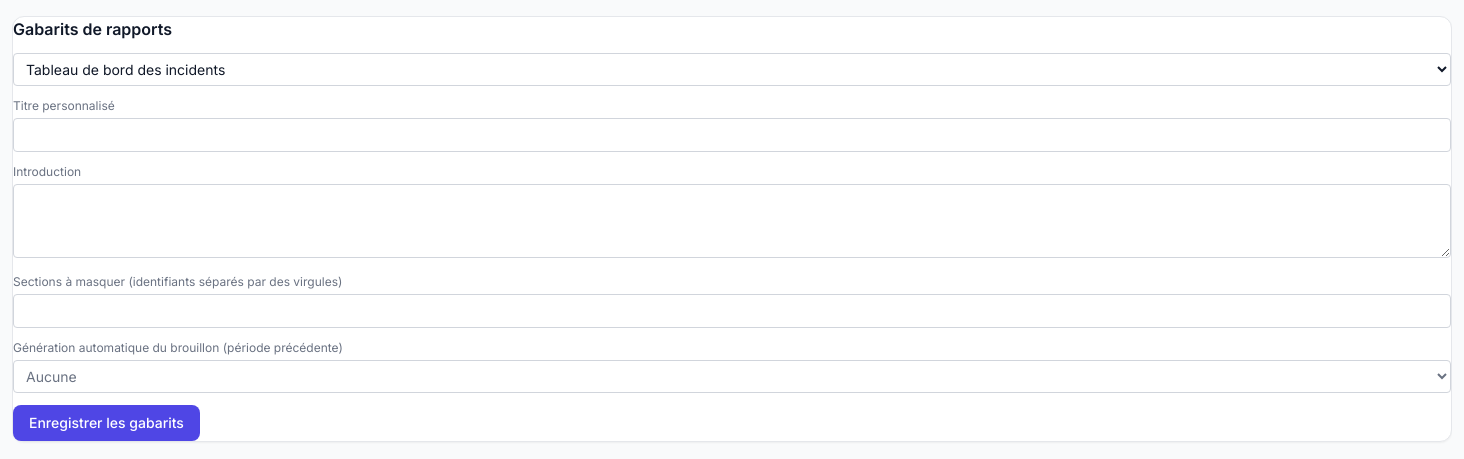
Test case: RapportsGabaritsEditor › ADMIN : saisit titre, introduction et sections masquées puis enregistre
The width and height of the screenshot is (1464, 459).
Step 1. Type "Revue" into the field labelled "Titre personnalisé" → (732, 135), box [13, 118, 1451, 152]
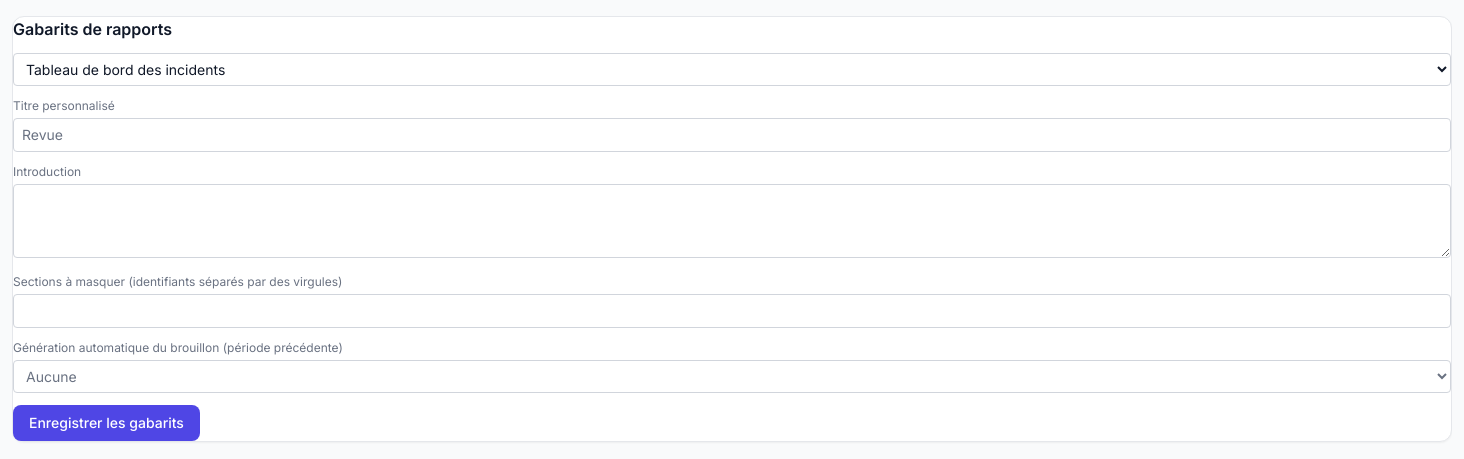
Step 2. Type "parType, parMois" into the field labelled "Sections à masquer (identifiants séparés par des virgules)" → (732, 311), box [13, 294, 1451, 328]
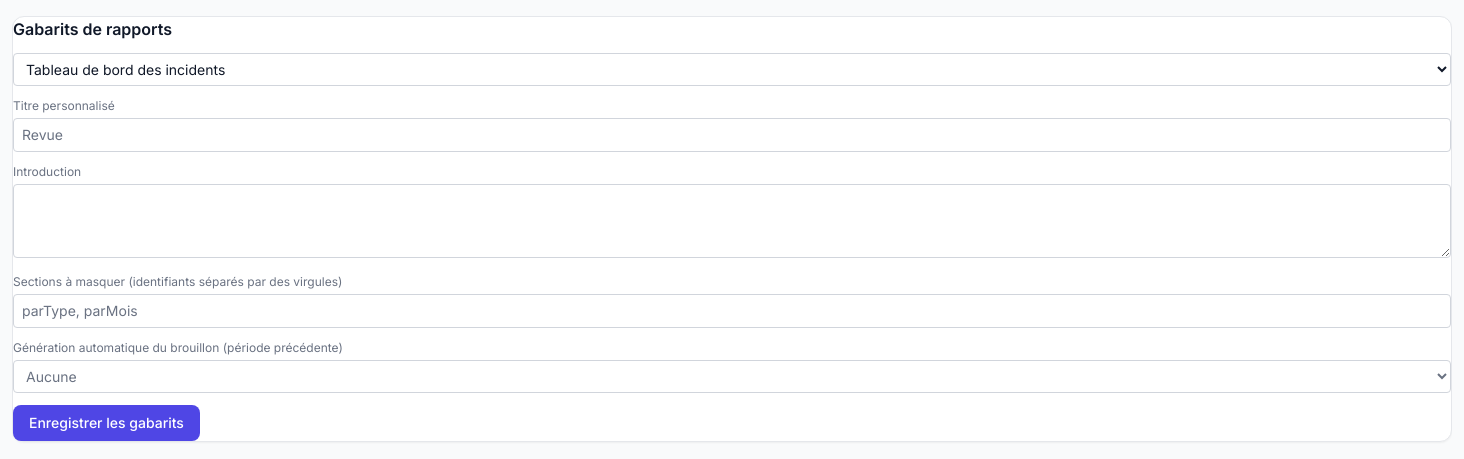
Step 3. Select "Chaque mois" in the dropdown labelled "Génération automatique du brouillon (période précédente)" → (732, 376), box [13, 360, 1451, 393]
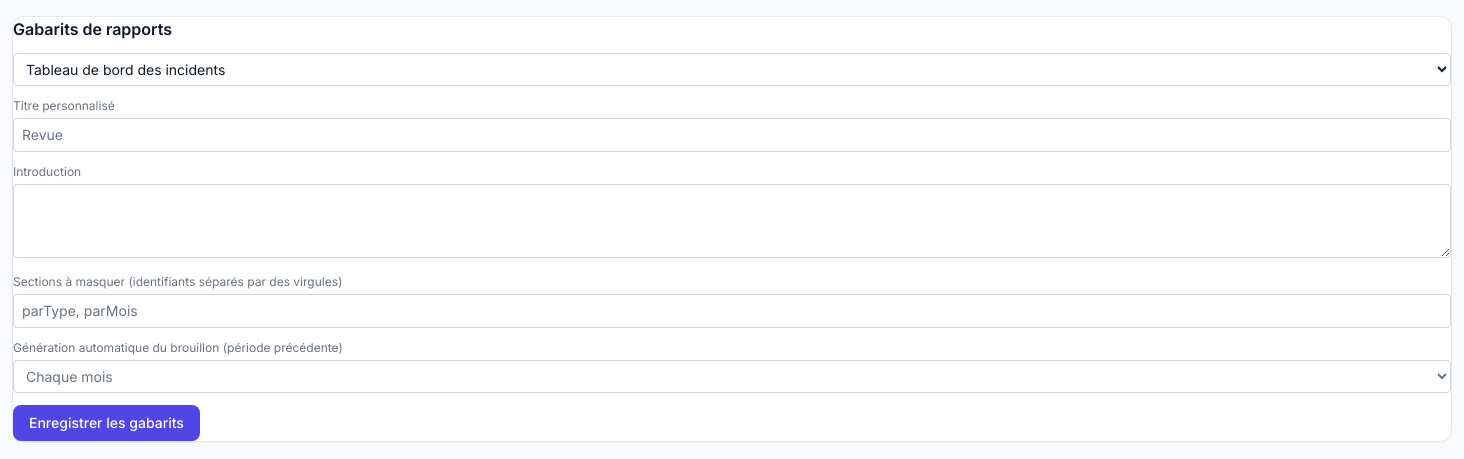
Step 4. Click the button "Enregistrer les gabarits" → click(106, 423), box [13, 405, 200, 441]
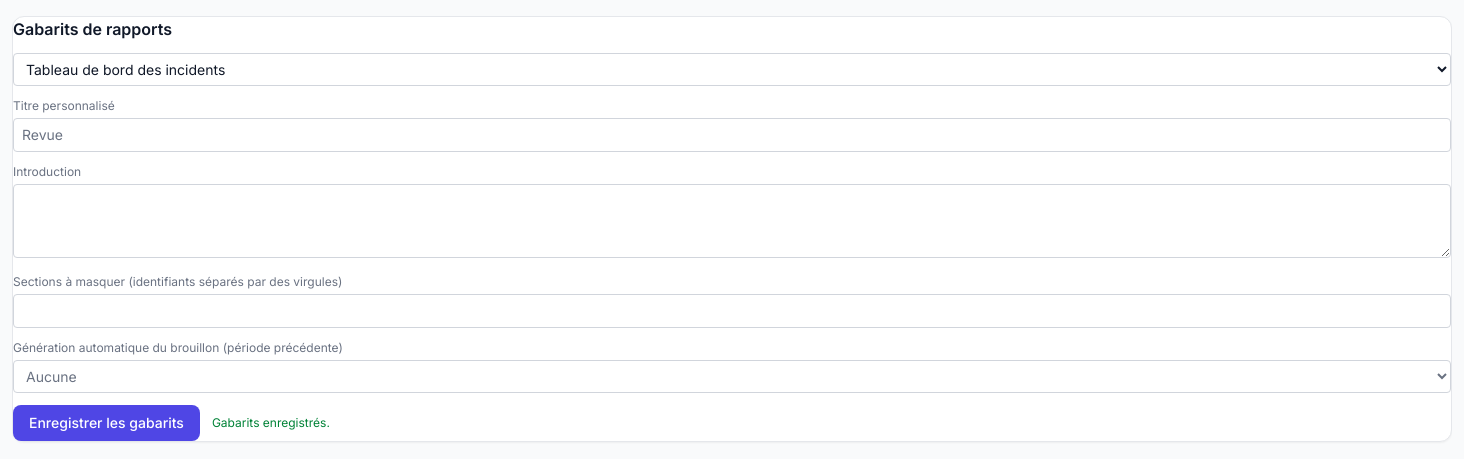
Expected: the message reads "Gabarits enregistrés.", [212, 415, 330, 430]
